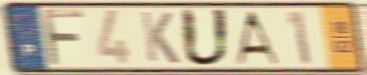1: (285, 9, 314, 67)
4: (95, 8, 134, 69)
A: (232, 9, 282, 67)
F: (40, 7, 87, 69)
K: (139, 10, 182, 66)
U: (178, 7, 233, 69)
